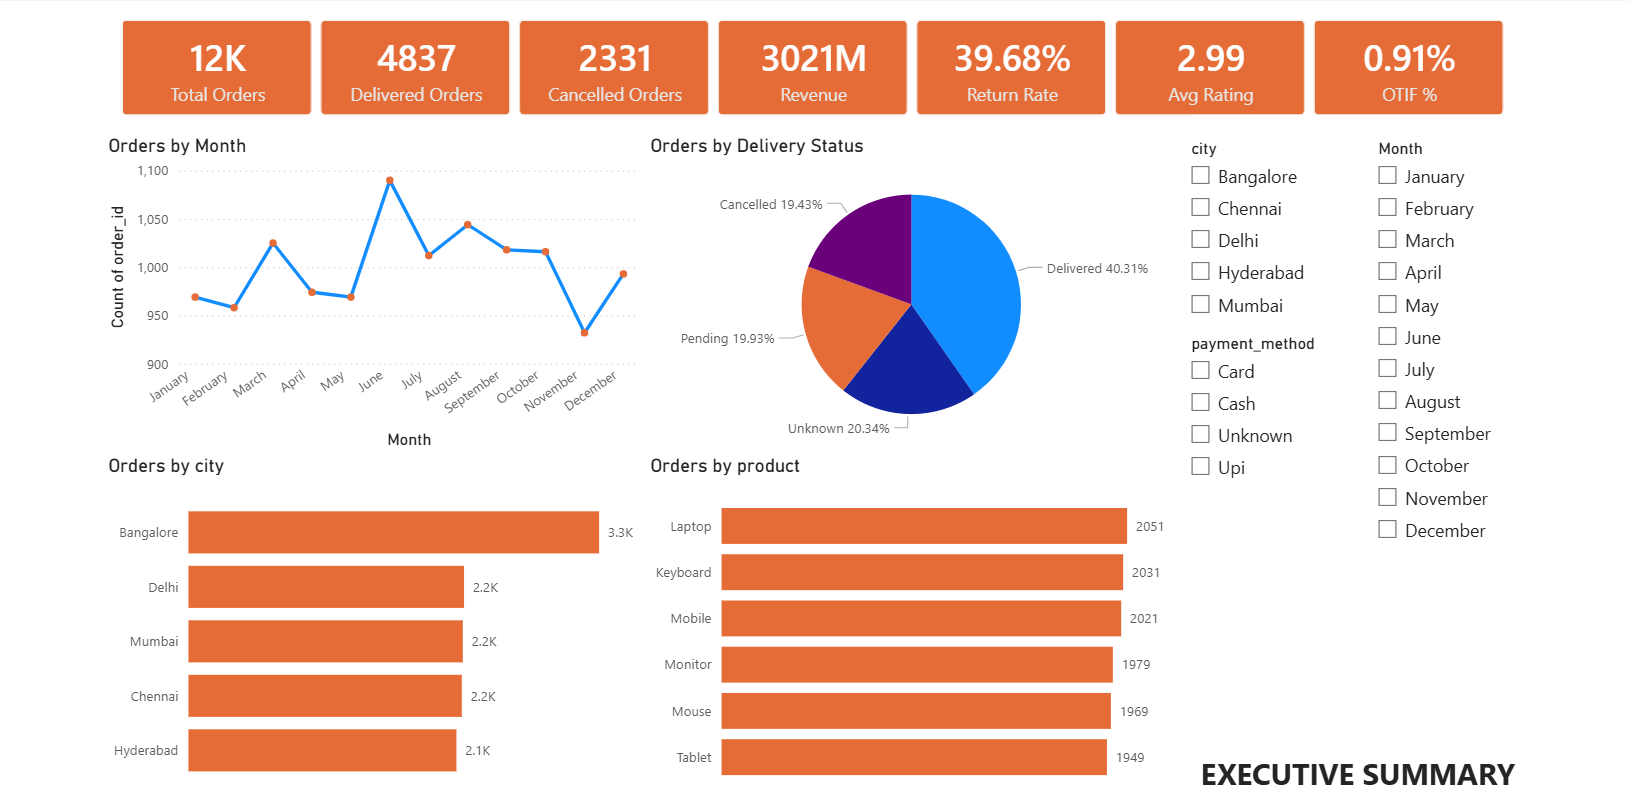

The dashboard page shown, as its layout file describes it:
{"tool":"powerbi","page":{"name":"EXECUTIVE OVERVIEW","canvas":[1280,720],"ordinal":0},"visuals":[{"type":"cardVisual","fields":{"Data":["all_measures.Total Orders","all_measures.Delivered Orders","all_measures.Cancelled Orders","all_measures.Revenue","all_measures.Return Rate","all_measures.Avg Rating","all_measures.OTIF %"]},"box":[0,0,1280,120],"z":0},{"type":"pieChart","title":"Orders by Delivery Status","fields":{"Category":["supply_chain_data_cleaned.delivery_status"],"Y":["CountNonNull(supply_chain_data_cleaned.order_id)"]},"box":[488,120,480,288],"z":1000},{"type":"lineChart","title":"Orders by Month","fields":{"Category":["supply_chain_data_cleaned.order_date.Variation.Date Hierarchy.Month"],"Y":["CountNonNull(supply_chain_data_cleaned.order_id)"]},"box":[0,120,488,288],"z":2000},{"type":"textbox","box":[984,672,296,48],"z":3000},{"type":"slicer","fields":{"Values":["supply_chain_data_cleaned.order_date.Variation.Date Hierarchy.Month"]},"box":[1136,120,144,384],"z":4000},{"type":"slicer","fields":{"Values":["supply_chain_data_cleaned.city"]},"box":[968,120,168,176],"z":5000},{"type":"slicer","fields":{"Values":["supply_chain_data_cleaned.payment_method"]},"box":[968,296,168,152],"z":6000},{"type":"clusteredBarChart","title":"Orders by city","fields":{"Category":["supply_chain_data_cleaned.city"],"Y":["CountNonNull(supply_chain_data_cleaned.order_id)"]},"box":[0,408,488,312],"z":7000},{"type":"clusteredBarChart","title":"Orders by product","fields":{"Y":["CountNonNull(supply_chain_data_cleaned.order_id)"],"Category":["supply_chain_data_cleaned.product"]},"box":[488,408,480,312],"z":8000}]}

Visuals, with their boxes on the page's 1280x720 design canvas (x1, y1, x2, y2). These are canvas units, not pixel positions in the 1628x798 screenshot, which may show the page scaled, cropped or inside an application window:
cardVisual - all_measures.Total Orders x all_measures.Delivered Orders: {"x1": 0, "y1": 0, "x2": 1280, "y2": 120}
"Orders by Delivery Status" pieChart: {"x1": 488, "y1": 120, "x2": 968, "y2": 408}
"Orders by Month" lineChart: {"x1": 0, "y1": 120, "x2": 488, "y2": 408}
textbox: {"x1": 984, "y1": 672, "x2": 1280, "y2": 720}
slicer - supply_chain_data_cleaned.order_date.Variation.Date Hierarchy.Month: {"x1": 1136, "y1": 120, "x2": 1280, "y2": 504}
slicer - supply_chain_data_cleaned.city: {"x1": 968, "y1": 120, "x2": 1136, "y2": 296}
slicer - supply_chain_data_cleaned.payment_method: {"x1": 968, "y1": 296, "x2": 1136, "y2": 448}
"Orders by city" clusteredBarChart: {"x1": 0, "y1": 408, "x2": 488, "y2": 720}
"Orders by product" clusteredBarChart: {"x1": 488, "y1": 408, "x2": 968, "y2": 720}
